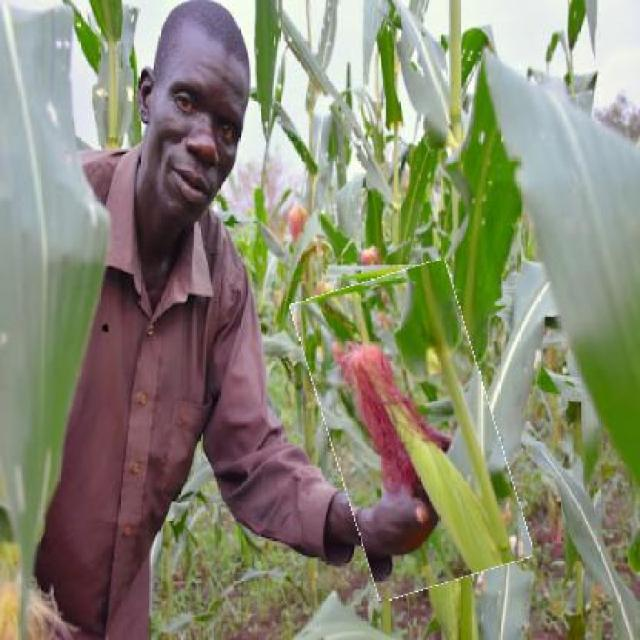Corn: (311, 268, 514, 594)
